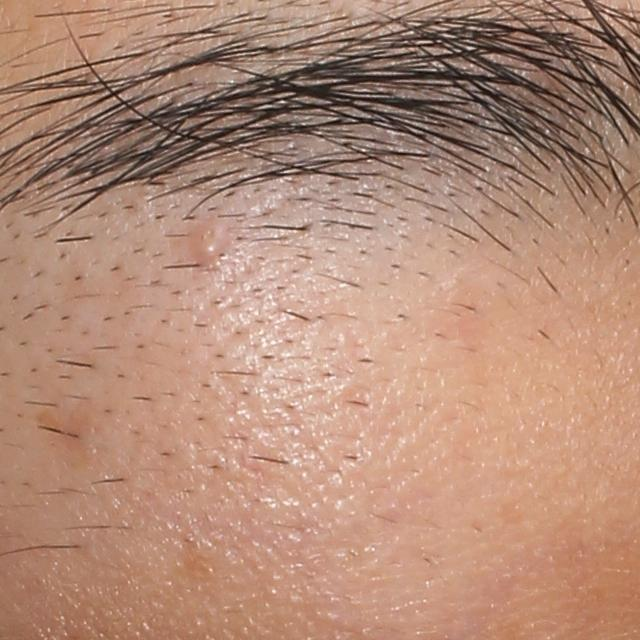papule: (184, 223, 232, 269)
